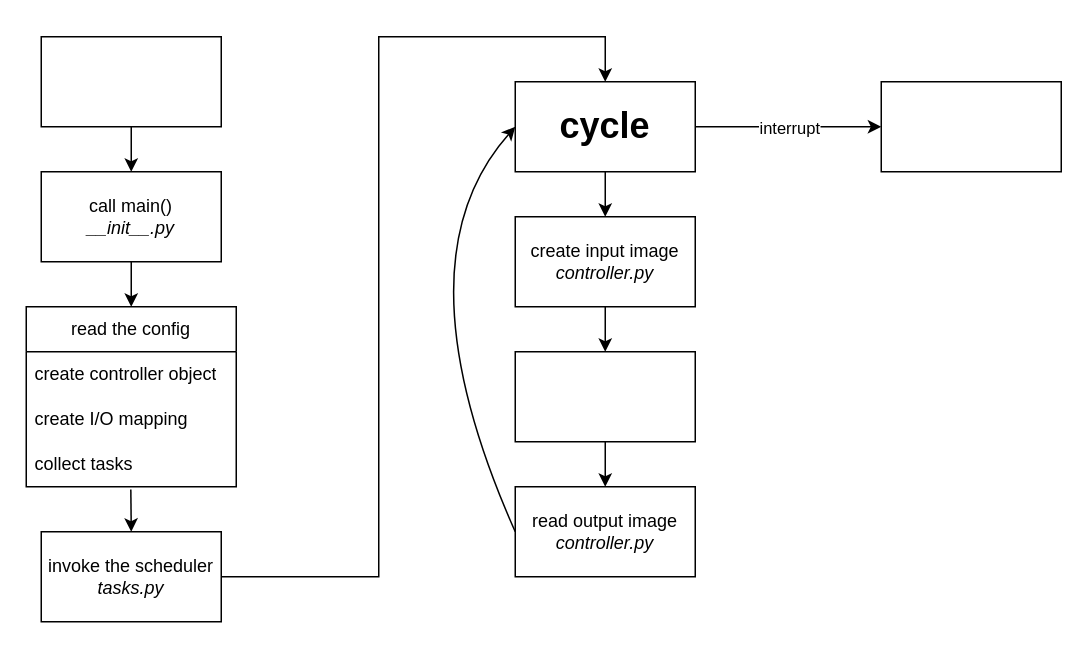
Image size: 1088x648. Some labels were removed from this diagram. Here are the shapes that lost their labels. From the top down, the box of each, then its label:
(40, 35, 221, 127): python main.py
(880, 80, 1061, 172): reset outputs & close file descriptors
(514, 350, 695, 442): call cycle function defined in main.py tasks.py
